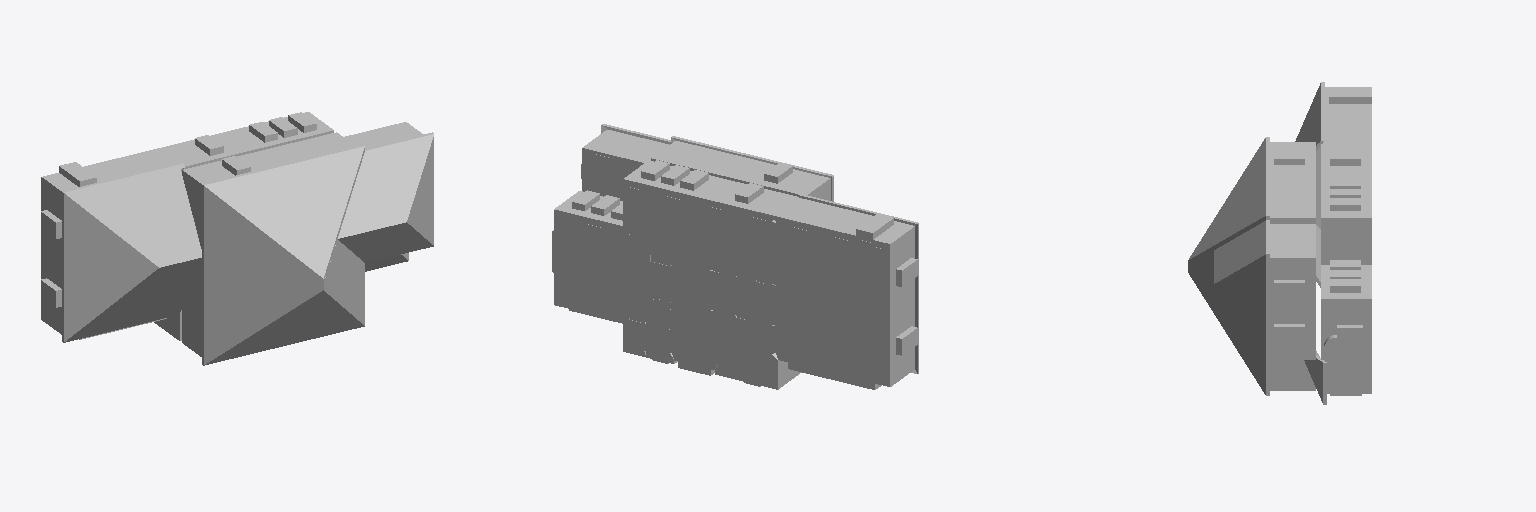
The model's file is 2 floors house from Edifius.obj.
3 views of the same model, side by side, from view 1: azimuth 30°, elevation 25°; view 2: azimuth 150°, elevation 25°; view 3: azimuth 270°, elevation 25° (orthographic).
Visible parts, largest first — view 1: Objet_IFC_2239; view 2: Objet_IFC_2239; view 3: Objet_IFC_2239.
Boxes of the visible parts, x1=… form: Objet_IFC_2239: x1=41, y1=112, x2=433, y2=365; Objet_IFC_2239: x1=552, y1=124, x2=918, y2=389; Objet_IFC_2239: x1=1188, y1=82, x2=1371, y2=404.
Bounding box in the file's own units: 19.53 × 9.96 × 8.92.